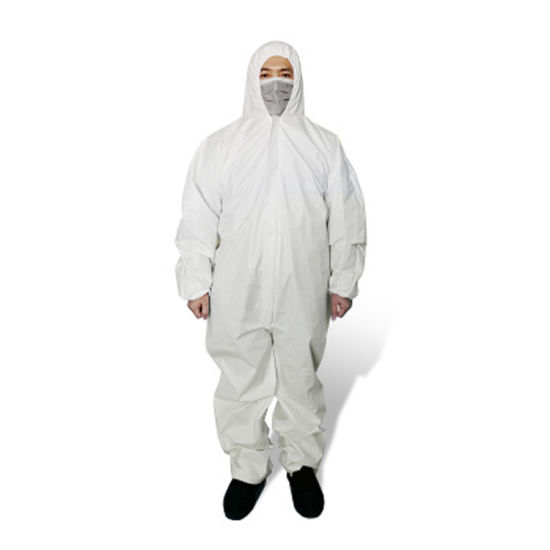Coverall: (174, 41, 369, 472)
with_mask: (259, 70, 296, 115)
